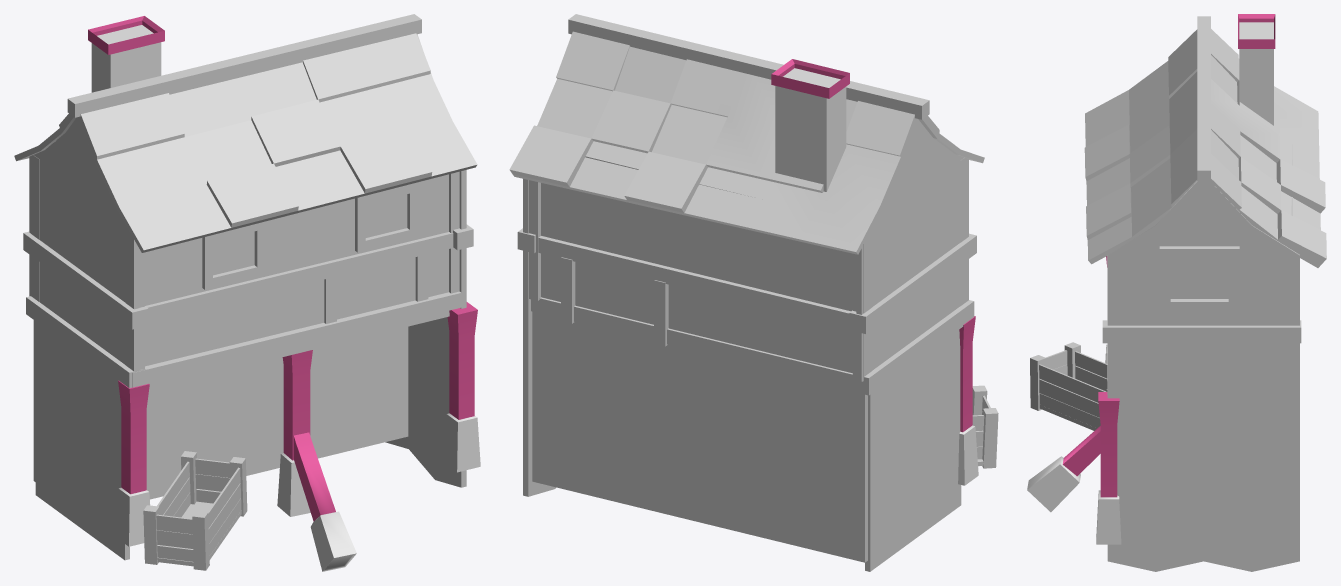
The model's file is house seperate and small.fbx.
3 renders of one model, left to right at view 1: azimuth 30°, elevation 25°; view 2: azimuth 150°, elevation 25°; view 3: azimuth 270°, elevation 25°, orthographic. The views are drawn at different scales.
Visible parts, largest first — view 1: Cube.020, Cube.028, Cube.027, Cube.014, Cube.038, Cube.016, Cube.036; view 2: Cube.020, Cube.028, Cube.027, Cube.036, Cube.016, Cube.014, Cube.038; view 3: Cube.020, Cube.028, Cube.027, Cube.014, Cube.038, Cube.036, Cube.016.
Part boxes in pixels (x1,y1,x2,y2): Cube.020: (29,34,466,560); Cube.028: (14,33,477,252); Cube.027: (23,155,473,388); Cube.014: (115,302,480,571); Cube.038: (143,451,247,570); Cube.016: (67,14,421,117); Cube.036: (88,16,164,92); Cube.020: (523,118,964,571); Cube.028: (509,31,984,254); Cube.027: (517,157,976,395); Cube.036: (771,59,849,191); Cube.016: (568,14,929,119); Cube.014: (958,316,978,485); Cube.038: (972,385,998,468); Cube.020: (1107,144,1299,571); Cube.028: (1084,29,1326,267); Cube.027: (1102,246,1301,394); Cube.014: (1027,256,1121,544); Cube.038: (1030,342,1107,430); Cube.036: (1238,14,1275,125); Cube.016: (1197,16,1210,183).
Size of the model in its own units: 1305 by 1709 by 1058.
